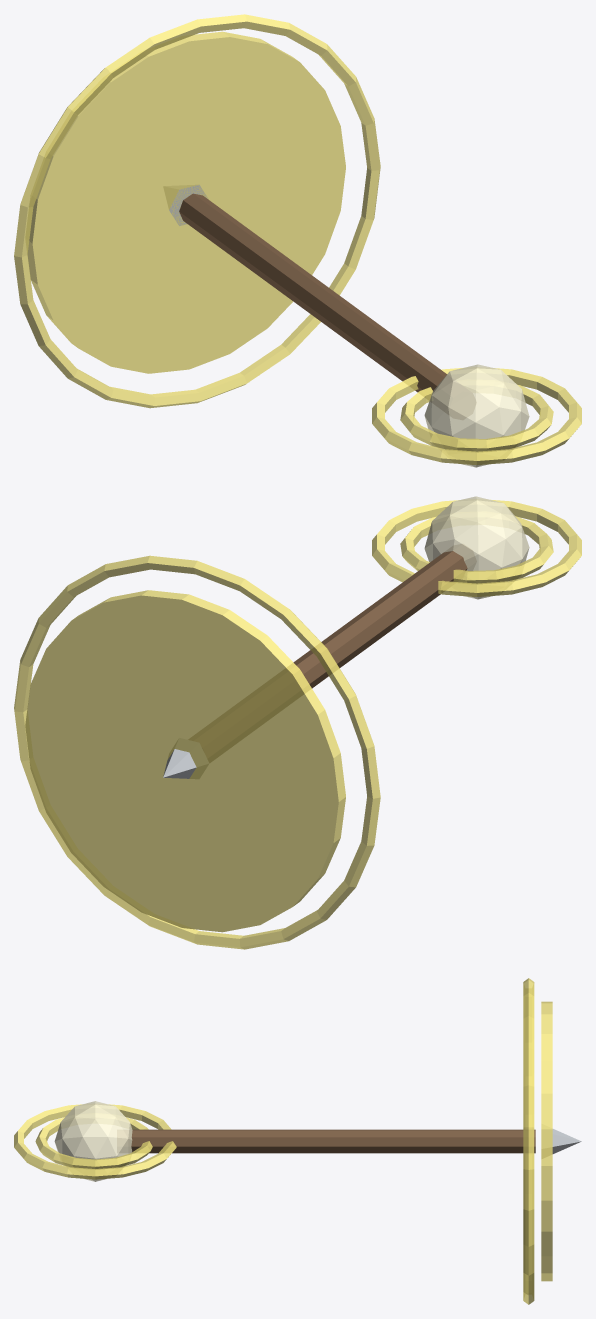
File: weapon_pickup_sun_staff_mythic.glb
The picture shows the model from 3 angles, top to bottom: view 1: azimuth 30°, elevation 25°; view 2: azimuth 150°, elevation 25°; view 3: azimuth 270°, elevation 25°; orthographic projection. The views are drawn at different scales.
Visible parts, largest first — view 1: rarity_base_disc, rarity_orbit_ring, staff, orb, sun_halo, orb_ring; view 2: rarity_base_disc, rarity_orbit_ring, orb, staff, sun_halo, orb_ring, bottom_cap; view 3: staff, rarity_orbit_ring, orb, rarity_base_disc, sun_halo, orb_ring.
Part boxes in pixels (bbox=[...]): rarity_base_disc: bbox=[27, 31, 345, 373]; rarity_orbit_ring: bbox=[14, 14, 380, 408]; staff: bbox=[179, 193, 446, 392]; orb: bbox=[424, 364, 529, 467]; sun_halo: bbox=[372, 367, 581, 465]; orb_ring: bbox=[400, 384, 553, 451]; rarity_base_disc: bbox=[25, 590, 345, 932]; rarity_orbit_ring: bbox=[14, 555, 380, 949]; orb: bbox=[424, 496, 529, 599]; staff: bbox=[293, 551, 467, 688]; sun_halo: bbox=[372, 499, 581, 596]; orb_ring: bbox=[400, 516, 553, 583]; bottom_cap: bbox=[163, 749, 196, 778]; staff: bbox=[131, 1129, 535, 1153]; rarity_orbit_ring: bbox=[523, 978, 534, 1304]; orb: bbox=[54, 1101, 132, 1181]; rarity_base_disc: bbox=[541, 1001, 552, 1281]; sun_halo: bbox=[14, 1104, 176, 1179]; orb_ring: bbox=[35, 1117, 152, 1168].
Size of the model in its own units: 1.45 by 1.45 by 2.51.
